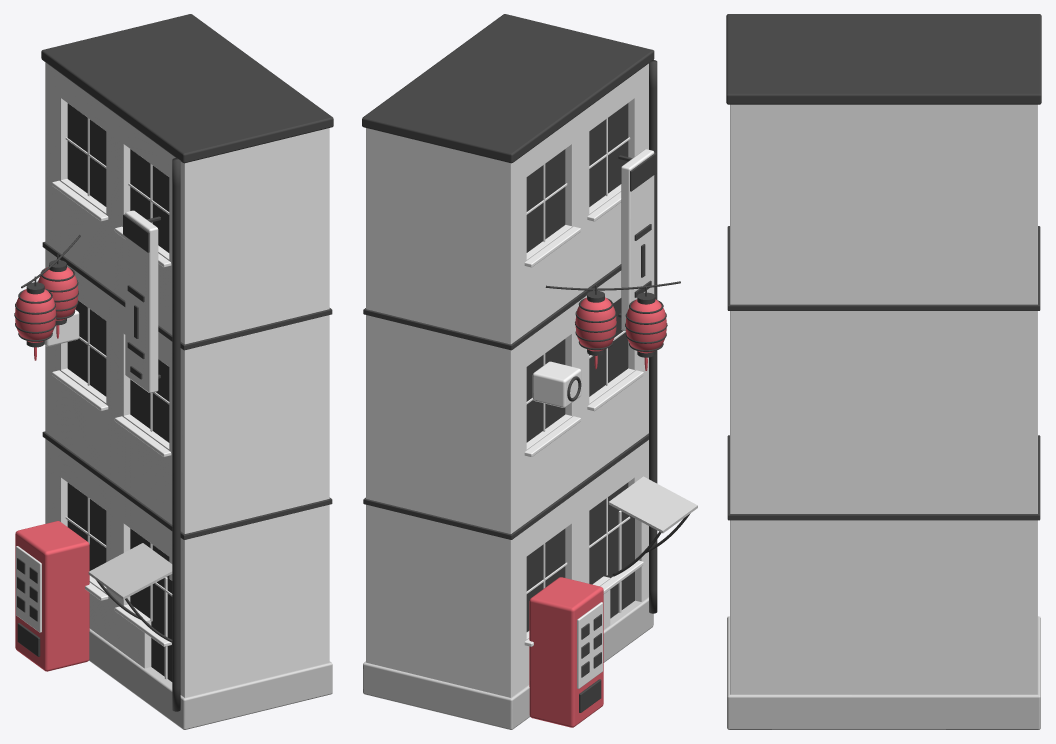
Rendered from BuildingAlley.glb.
The picture shows the model from 3 angles, left to right: view 1: azimuth 30°, elevation 25°; view 2: azimuth 150°, elevation 25°; view 3: azimuth 270°, elevation 25°; orthographic projection. The views are drawn at different scales.
Visible parts, largest first — view 1: BuildingAlley; view 2: BuildingAlley; view 3: BuildingAlley.
Boxes of the visible parts, <box> form: BuildingAlley: <box>14,14,333,729</box>; BuildingAlley: <box>362,14,697,729</box>; BuildingAlley: <box>726,14,1041,729</box>.
Size of the model in its own units: 4.06 by 9.13 by 4.1.
